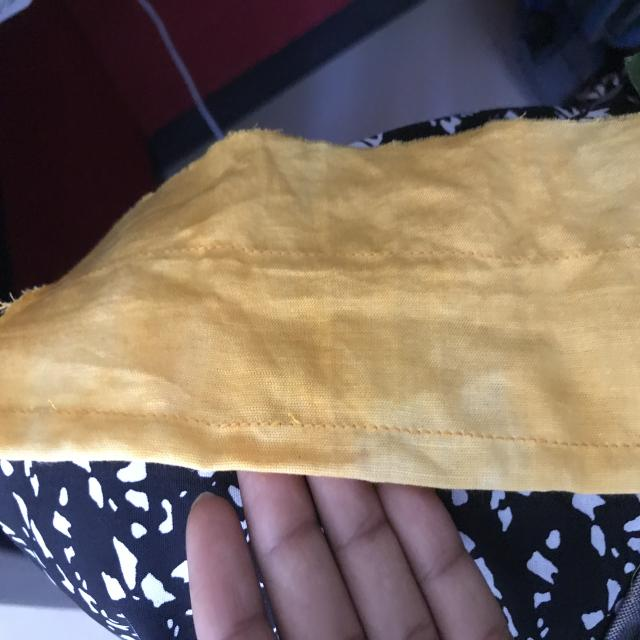broken: (264, 388, 310, 448)
